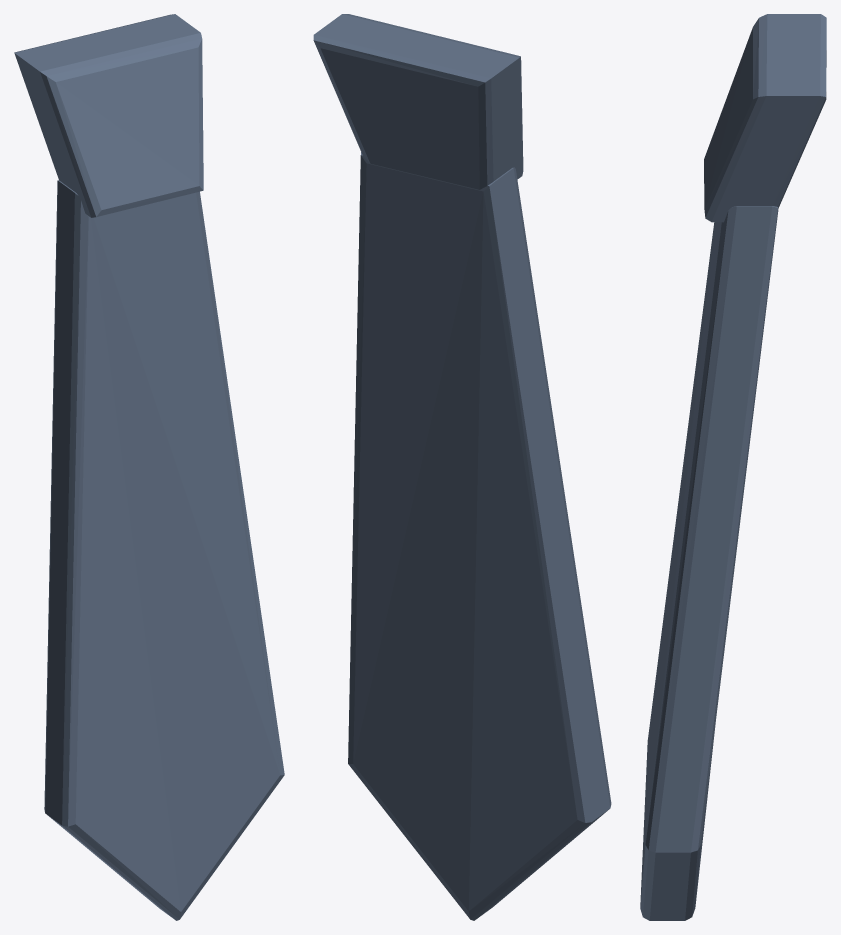
The model's file is necktie-only.glb.
The picture shows the model from 3 angles, left to right: view 1: azimuth 30°, elevation 25°; view 2: azimuth 150°, elevation 25°; view 3: azimuth 270°, elevation 25°; orthographic projection. The views are drawn at different scales.
Parts seen in each view (by area): view 1: Apparel_necktie_0; view 2: Apparel_necktie_0; view 3: Apparel_necktie_0.
Part boxes in pixels (<box>): Apparel_necktie_0: <box>14,14,284,920</box>; Apparel_necktie_0: <box>313,14,611,920</box>; Apparel_necktie_0: <box>640,14,826,920</box>.
Size of the model in its own units: 0.1885 by 0.6762 by 0.132.
